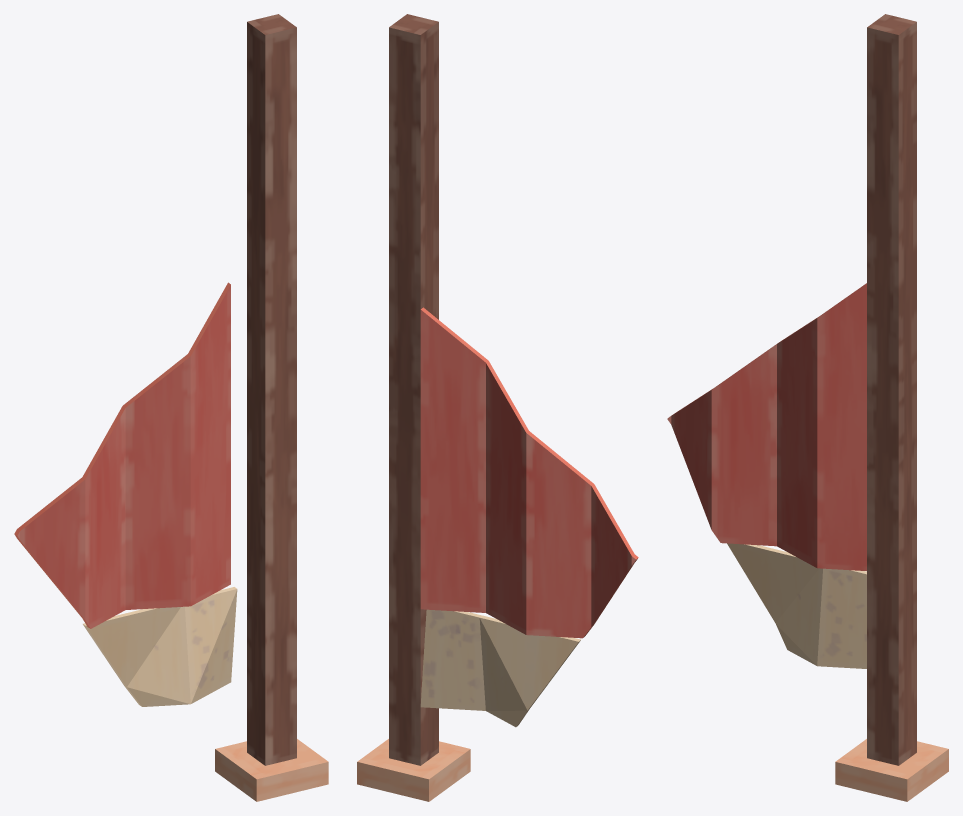
The model's file is rack_red_s01.fbx.
The picture shows the model from 3 angles, left to right: view 1: azimuth 30°, elevation 25°; view 2: azimuth 150°, elevation 25°; view 3: azimuth 330°, elevation 25°; orthographic projection.
Visible parts, largest first — view 1: rack_red_s01; view 2: rack_red_s01; view 3: rack_red_s01.
Boxes of the visible parts, <box> form: rack_red_s01: <box>14,14,328,801</box>; rack_red_s01: <box>357,14,638,801</box>; rack_red_s01: <box>667,14,948,801</box>.
Bounding box in the file's own units: 3.83 × 10 × 1.
